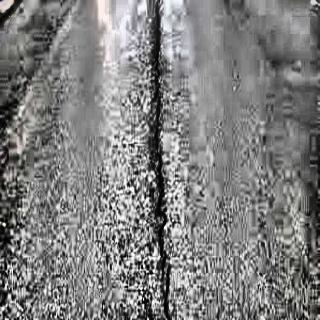pothole: (151, 0, 171, 320)
